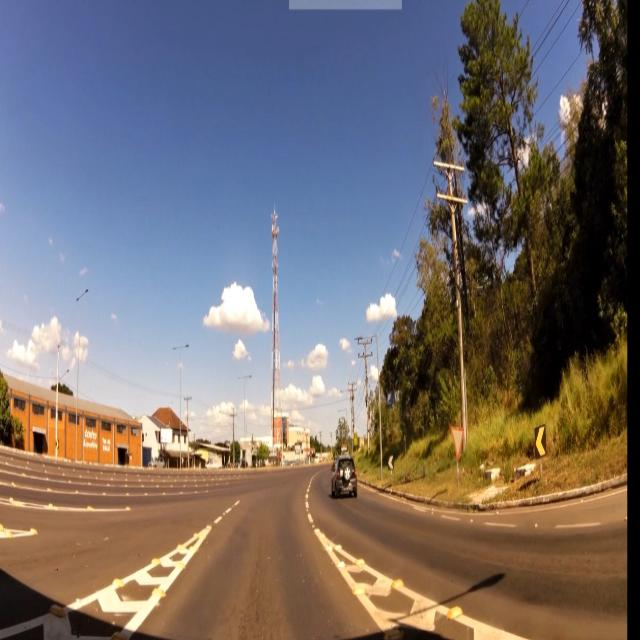R-2: (451, 422, 466, 459)
